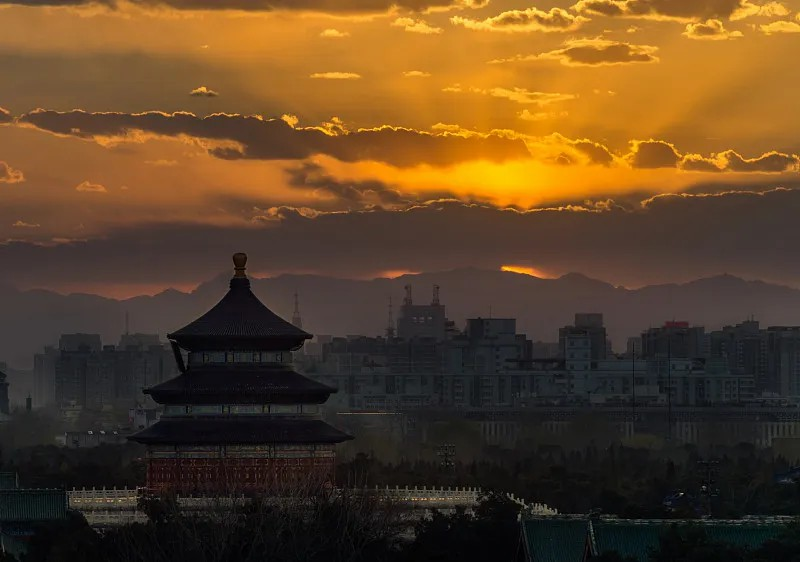Heaven: (127, 252, 358, 493)
